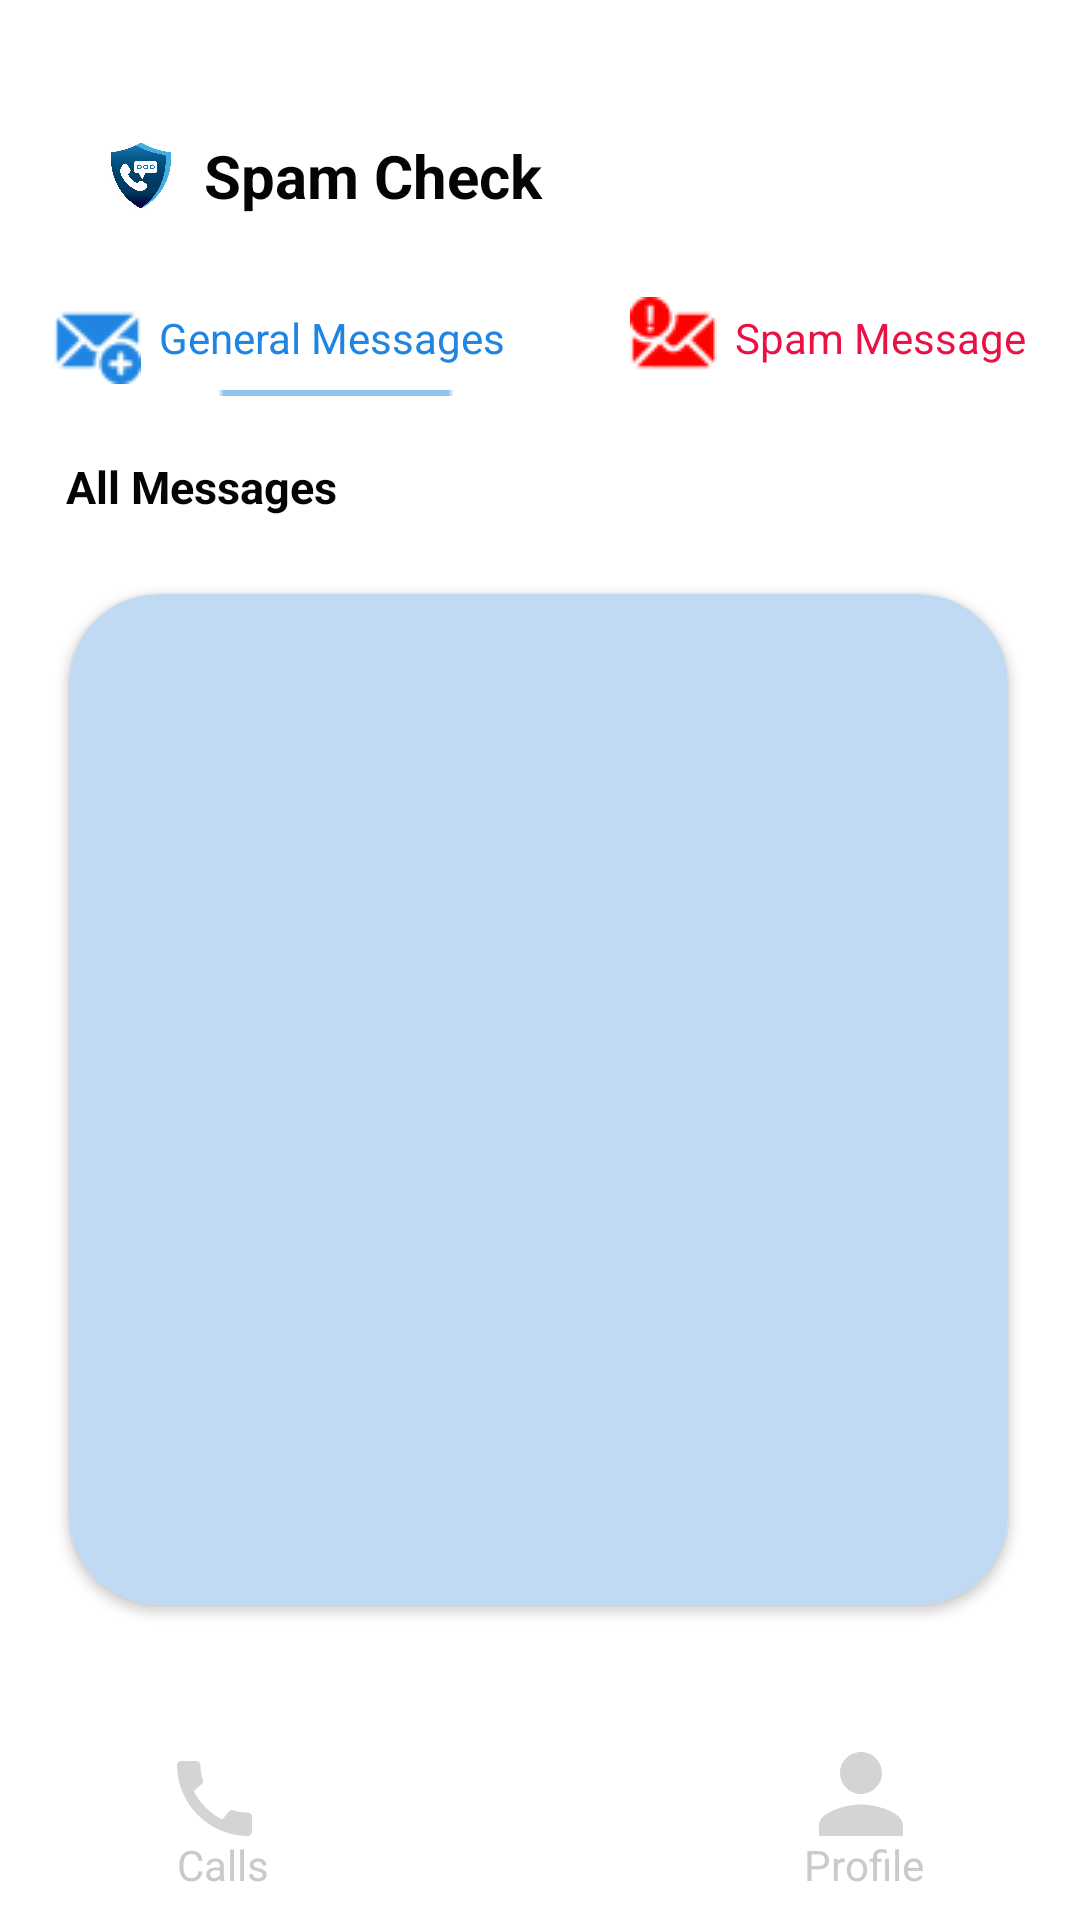

Where to tap for icons on this 1080px×1920px app screen, as point (x, y):
gen mess: point (98, 348)
